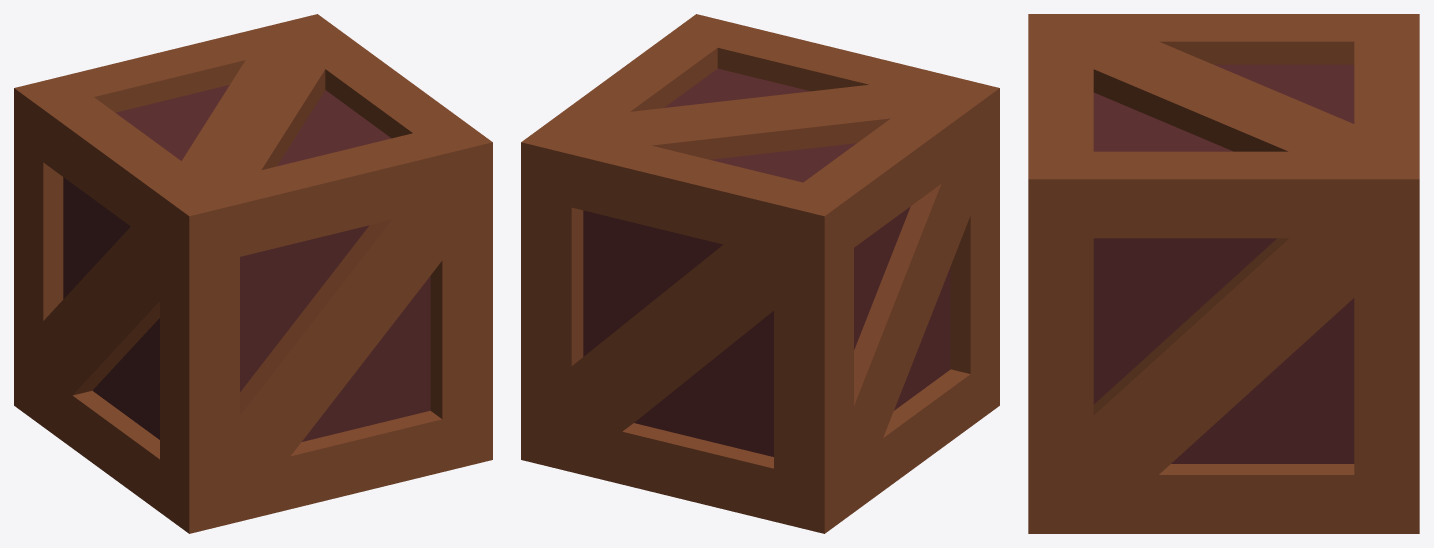
3 renders of one model, left to right at view 1: azimuth 30°, elevation 25°; view 2: azimuth 150°, elevation 25°; view 3: azimuth 270°, elevation 25°, orthographic. The views are drawn at different scales.
Parts seen in each view (by area): view 1: коробка; view 2: коробка; view 3: коробка.
Part boxes in pixels (left/top/right/bottom): коробка: left=14, top=14, right=492, bottom=533; коробка: left=521, top=14, right=999, bottom=533; коробка: left=1028, top=14, right=1419, bottom=533.
Bounding box in the file's own units: 1.41 × 1.41 × 1.41.
Materials: 1 (1 with a texture image).
